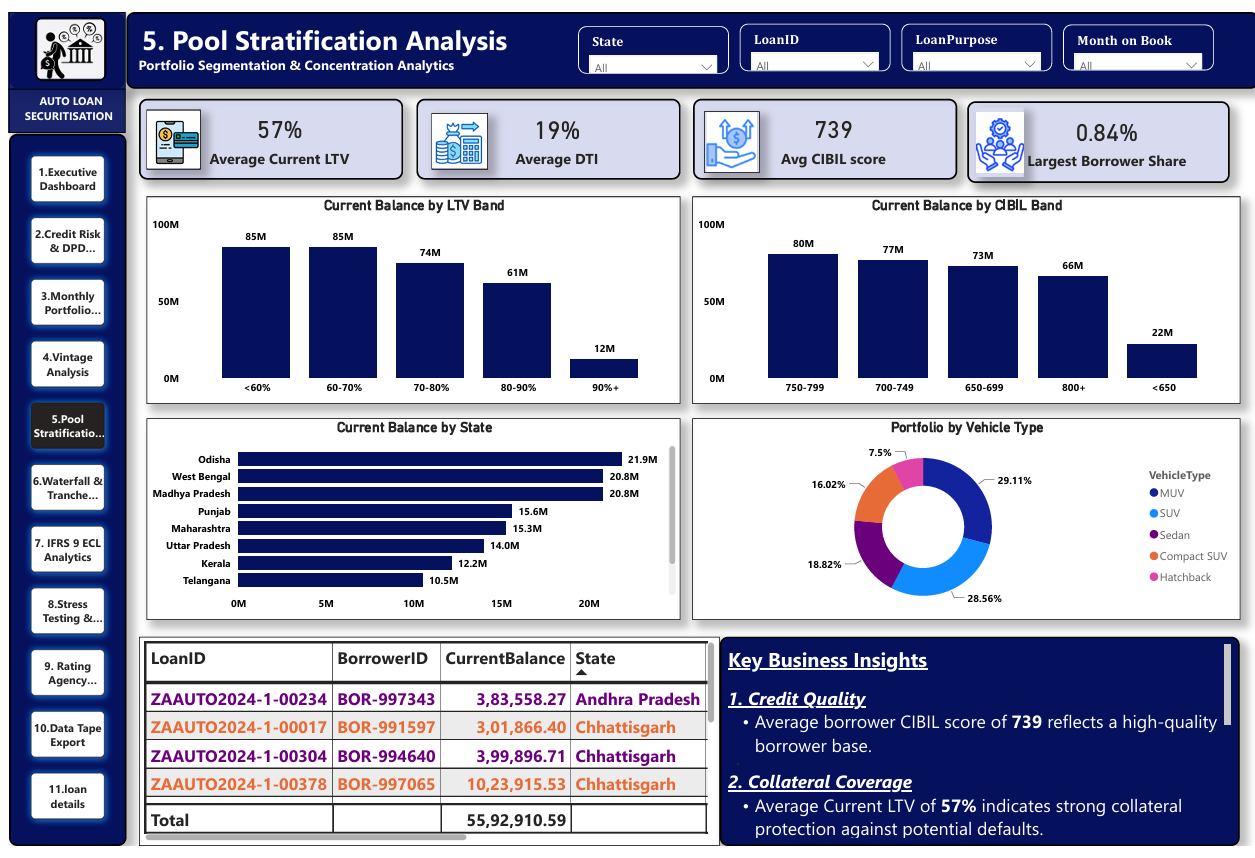

What the dashboard file says about the page in this screenshot:
{"tool":"powerbi","page":{"name":"5.Pool Stratification Analysis","canvas":[1500,1000],"ordinal":4},"visuals":[{"type":"shape","box":[0,0,139.9,92.9],"z":0},{"type":"textbox","box":[140.8,0,1358.9,92.2],"z":1000},{"type":"image","box":[31.4,6,85.7,77.2],"z":2000},{"type":"textbox","box":[0,91.7,139.9,53.1],"z":3000},{"type":"slicer","fields":{"Values":["Loan Master.State"]},"box":[682.8,16.9,181,56.7],"z":4000},{"type":"slicer","fields":{"Values":["Loan Master.LoanID"]},"box":[877.1,14.5,181,56.7],"z":5000},{"type":"slicer","fields":{"Values":["Loan Master.LoanPurpose"]},"box":[1071.3,14.5,181,56.7],"z":6000},{"type":"slicer","fields":{"Values":["Calendar.Month"]},"box":[1265.1,15.1,181,55.3],"z":7000},{"type":"card","fields":{"Values":["Loan Master.Average Current LTV"]},"box":[155.8,103.9,316.7,97.2],"z":8000},{"type":"card","fields":{"Values":["Loan Master.Average DTI"]},"box":[489.3,103.9,316.7,97.2],"z":9000},{"type":"card","fields":{"Values":["Loan Master.Avg CIBIL score"]},"box":[821,103.9,316.7,97.2],"z":10000},{"type":"card","fields":{"Values":["Loan Master.Largest Borrower Share"]},"box":[1149.8,106.9,315.5,98.2],"z":11000},{"type":"pageNavigator","box":[0,145.8,140.8,854.6],"z":12000},{"type":"image","box":[834.3,119.2,66.6,73.6],"z":13000},{"type":"clusteredColumnChart","title":"Current Balance by LTV Band","fields":{"Category":["Loan Master.LTV Band"],"Y":["Sum(Loan Master.CurrentBalance)"]},"box":[164.8,220.8,641.5,248.9],"z":14000},{"type":"columnChart","title":"Current Balance by CIBIL Band","fields":{"Category":["Loan Master.CIBIL Band"],"Y":["Sum(Loan Master.CurrentBalance)"]},"box":[820.3,220.8,657.3,248.9],"z":15000},{"type":"tableEx","fields":{"Values":["Loan Master.LoanID","Loan Master.BorrowerID","Sum(Loan Master.CurrentBalance)","Loan Master.State","Loan Master.VehicleType","Sum(Loan Master.CIBIL_Score_Origination)","Sum(Loan Master.LTV_Current)"]},"box":[155.8,749,697.1,251.3],"z":16000},{"type":"barChart","title":"Current Balance by State","fields":{"Category":["Loan Master.State"],"Y":["Sum(Loan Master.CurrentBalance)"]},"box":[164.8,487.3,641.5,241.9],"z":17000},{"type":"donutChart","title":"Portfolio by Vehicle Type","fields":{"Y":["Max(Loan Master.CurrentBalance)"],"Category":["Loan Master.VehicleType"]},"box":[820.3,487.3,657.3,241.9],"z":18000},{"type":"image","box":[506.5,120.9,68.4,68.4],"z":19000},{"type":"image","box":[164.8,117.4,64.9,71.9],"z":20000},{"type":"image","box":[1161.2,113.9,57,83.8],"z":21000},{"type":"textbox","box":[853,749,624,251],"z":22000}]}

Visuals, with their boxes in screenshot pixels (x1, y1, x2, y2), scaled from the page's 1500x1000 canvas onto the 1255x858 screenshot:
shape: 0:0:117:80
textbox: 118:0:1254:79
image: 26:5:98:71
textbox: 0:79:117:124
slicer - Loan Master.State: 571:15:723:63
slicer - Loan Master.LoanID: 734:12:885:61
slicer - Loan Master.LoanPurpose: 896:12:1048:61
slicer - Calendar.Month: 1058:13:1210:60
card - Loan Master.Average Current LTV: 130:89:395:173
card - Loan Master.Average DTI: 409:89:674:173
card - Loan Master.Avg CIBIL score: 687:89:952:173
card - Loan Master.Largest Borrower Share: 962:92:1226:176
pageNavigator: 0:125:118:857
image: 698:102:754:165
"Current Balance by LTV Band" clusteredColumnChart: 138:189:675:403
"Current Balance by CIBIL Band" columnChart: 686:189:1236:403
tableEx - Loan Master.LoanID x Loan Master.BorrowerID: 130:643:714:857
"Current Balance by State" barChart: 138:418:675:626
"Portfolio by Vehicle Type" donutChart: 686:418:1236:626
image: 424:104:481:162
image: 138:101:192:162
image: 972:98:1019:170
textbox: 714:643:1236:857
